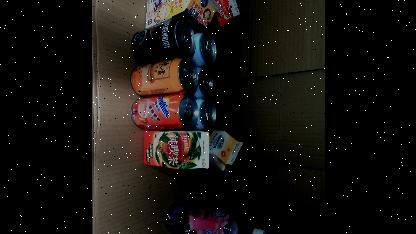Can: (130, 20, 196, 64), (128, 58, 198, 98), (130, 94, 198, 130), (188, 98, 216, 130), (190, 33, 216, 67), (188, 68, 214, 98)
Plastic Bottle: (164, 202, 266, 234)
